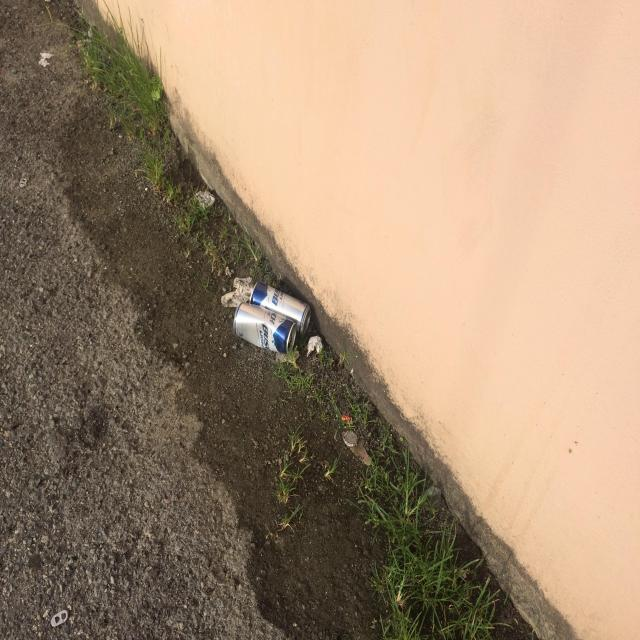litter: (250, 281, 310, 337), (232, 304, 296, 354), (221, 278, 251, 308), (307, 336, 322, 356), (343, 430, 357, 445)
